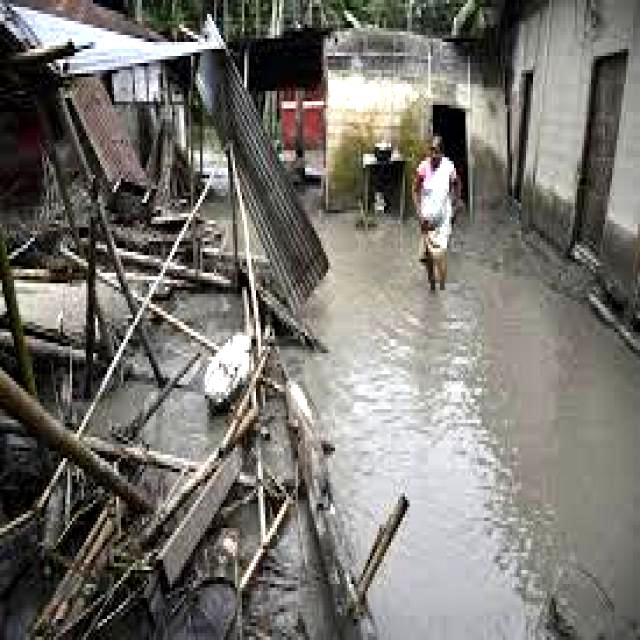civilian: (404, 132, 474, 299)
